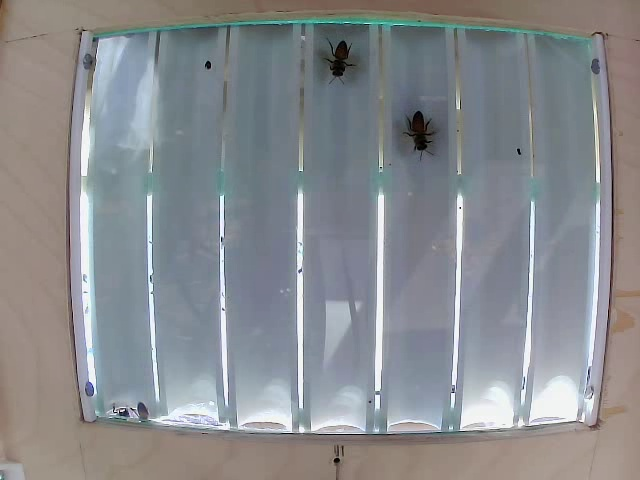bee: (398, 104, 441, 167), (310, 37, 348, 90)
